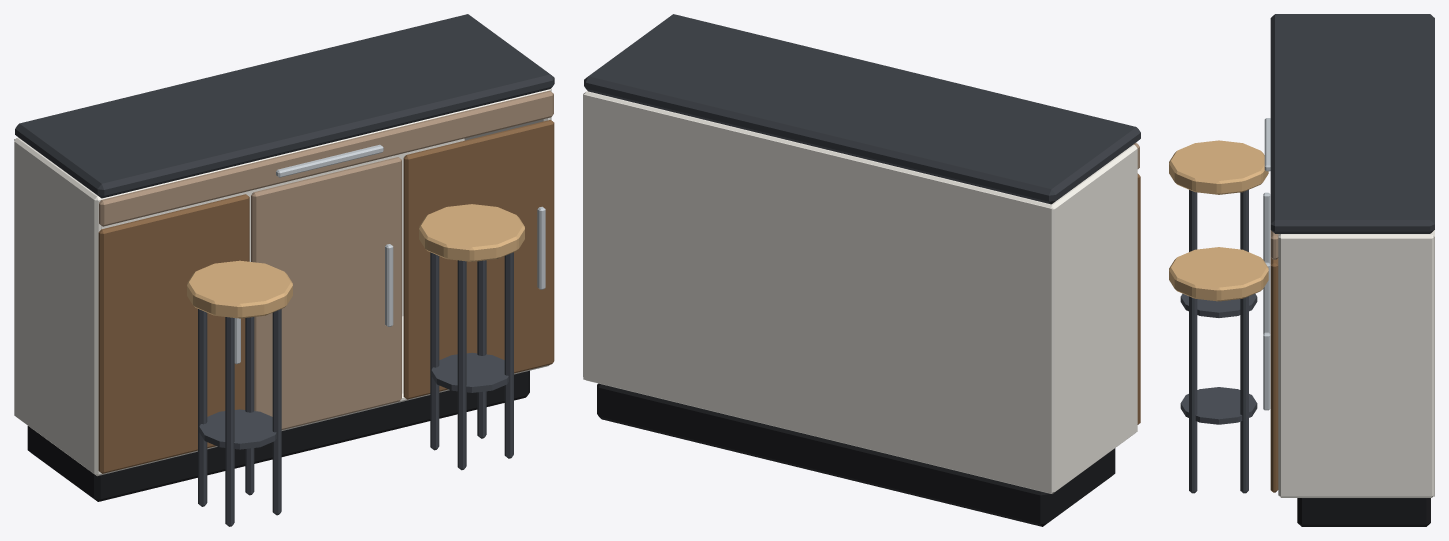
File: under_counter_table.glb
The picture shows the model from 3 angles, left to right: view 1: azimuth 30°, elevation 25°; view 2: azimuth 150°, elevation 25°; view 3: azimuth 270°, elevation 25°; orthographic projection. The views are drawn at different scales.
Visible parts, largest first — view 1: under_counter_table_Body, under_counter_table_Board; view 2: under_counter_table_Body; view 3: under_counter_table_Body, under_counter_table_Board.
Part boxes in pixels (x1=…): under_counter_table_Body: x1=14, y1=14, x2=554, y2=526; under_counter_table_Board: x1=99, y1=90, x2=553, y2=226; under_counter_table_Body: x1=583, y1=14, x2=1140, y2=526; under_counter_table_Body: x1=1169, y1=14, x2=1434, y2=526; under_counter_table_Board: x1=1264, y1=118, x2=1278, y2=259.
Size of the model in its own units: 1.3 by 0.9 by 0.6954.
